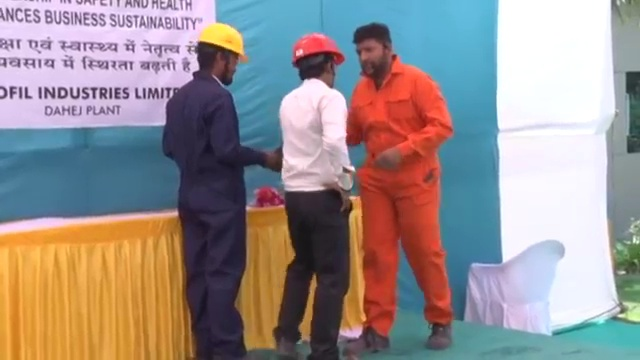helmet: (195, 19, 249, 64), (291, 30, 346, 65)
helmet_off: (353, 23, 395, 78)
helmet_on: (194, 19, 250, 86), (289, 30, 347, 88)
person: (162, 20, 276, 360), (344, 24, 455, 352), (267, 30, 354, 360)
